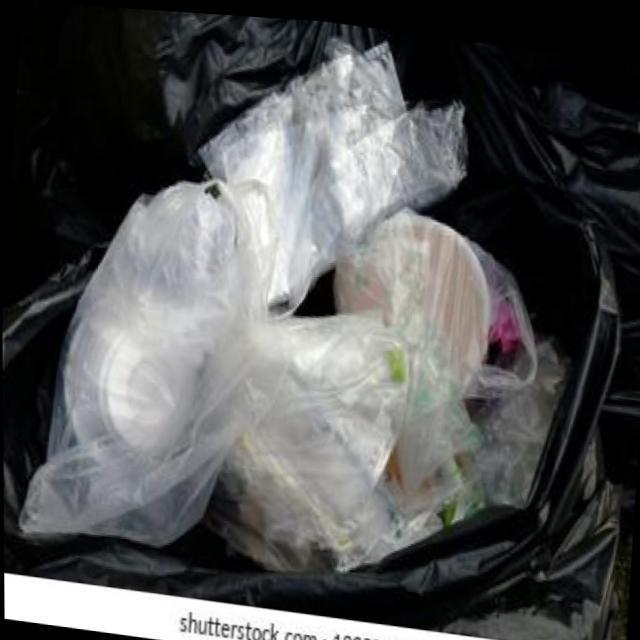Garbage: (3, 26, 574, 583)
contaminated_waste: (22, 24, 556, 559)
